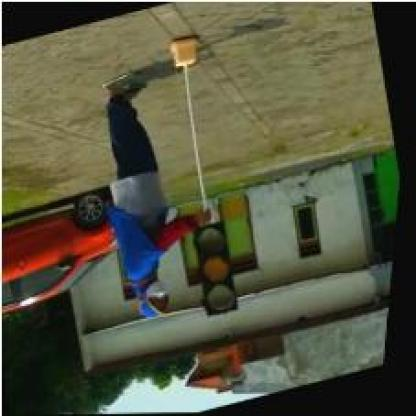yellow: (190, 221, 250, 318)
